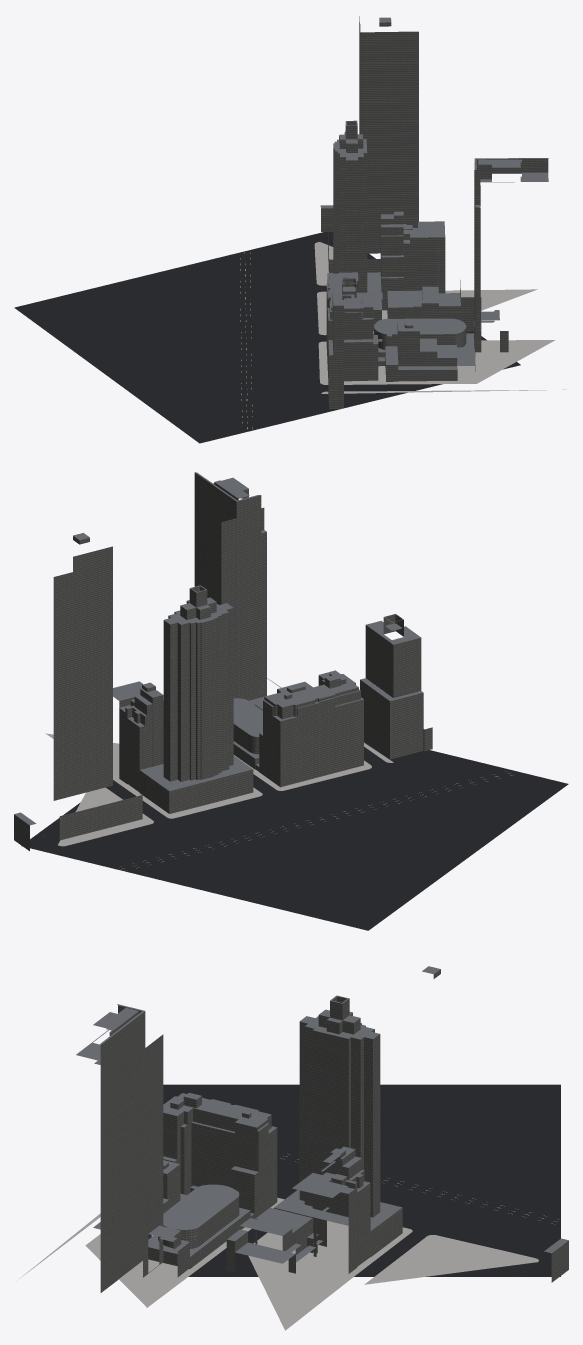
3 views of the same model, one above another, from view 1: azimuth 30°, elevation 25°; view 2: azimuth 150°, elevation 25°; view 3: azimuth 270°, elevation 25° (orthographic). The views are drawn at different scales.
Parts seen in each view (by area): view 1: t3_2, detail; view 2: t3_2, detail; view 3: t3_2, detail.
Boxes of the visible parts, left/top/right/bottom form: t3_2: left=14, top=16, right=548, bottom=443; detail: left=240, top=242, right=565, bottom=428; t3_2: left=14, top=472, right=568, bottom=930; detail: left=45, top=678, right=511, bottom=869; t3_2: left=76, top=966, right=568, bottom=1292; detail: left=16, top=1154, right=558, bottom=1330.
Size of the model in its own units: 320 by 186 by 305.
4 materials, 2 textured.
